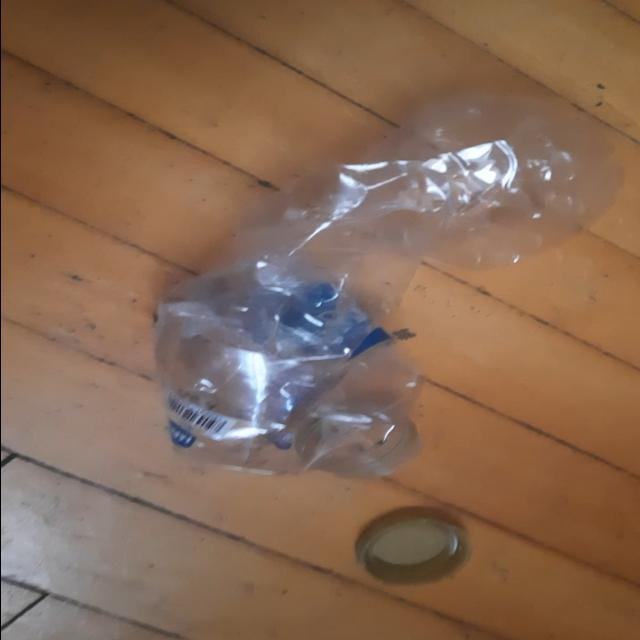Plastic: (153, 93, 625, 478)
